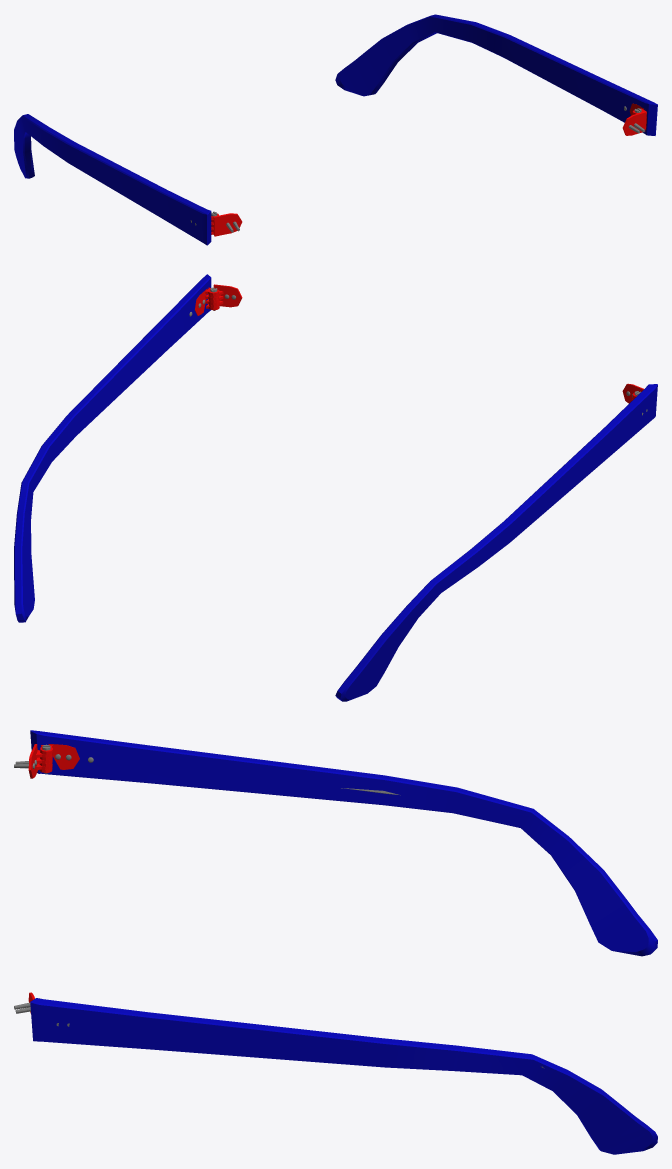
The model's file is Temple.obj.
3 views of the same model, one above another, from view 1: azimuth 30°, elevation 25°; view 2: azimuth 150°, elevation 25°; view 3: azimuth 270°, elevation 25° (orthographic). The views are drawn at different scales.
Visible parts, largest first — view 1: Temple; view 2: Temple; view 3: Temple.
Part boxes in pixels (x1,y1,x2,y2): Temple: (14, 14, 657, 245); Temple: (14, 274, 657, 701); Temple: (14, 730, 657, 1154).
Bounding box in the file's own units: 13.93 × 4.47 × 13.87.
